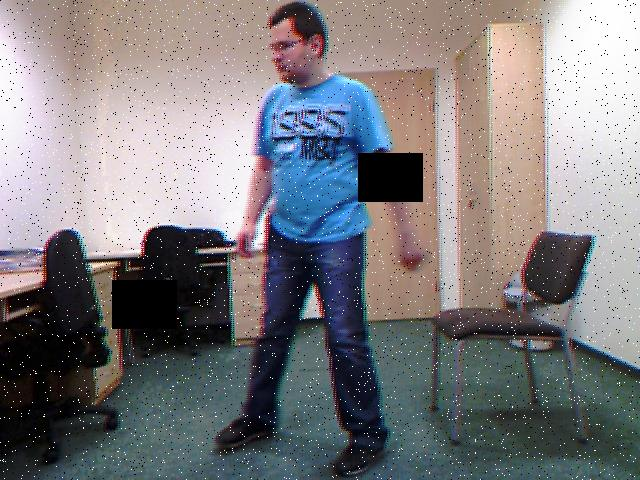walking: (212, 3, 430, 480)
